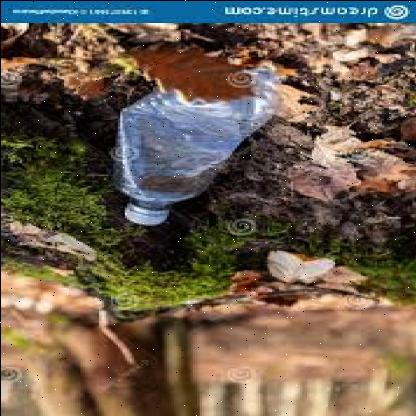Plastic Bottle: (113, 63, 278, 224)
